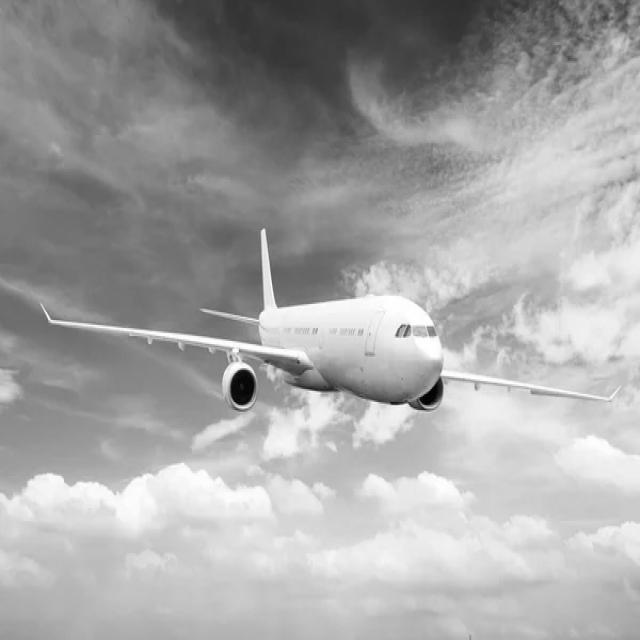Aircraft: (38, 227, 625, 444)
